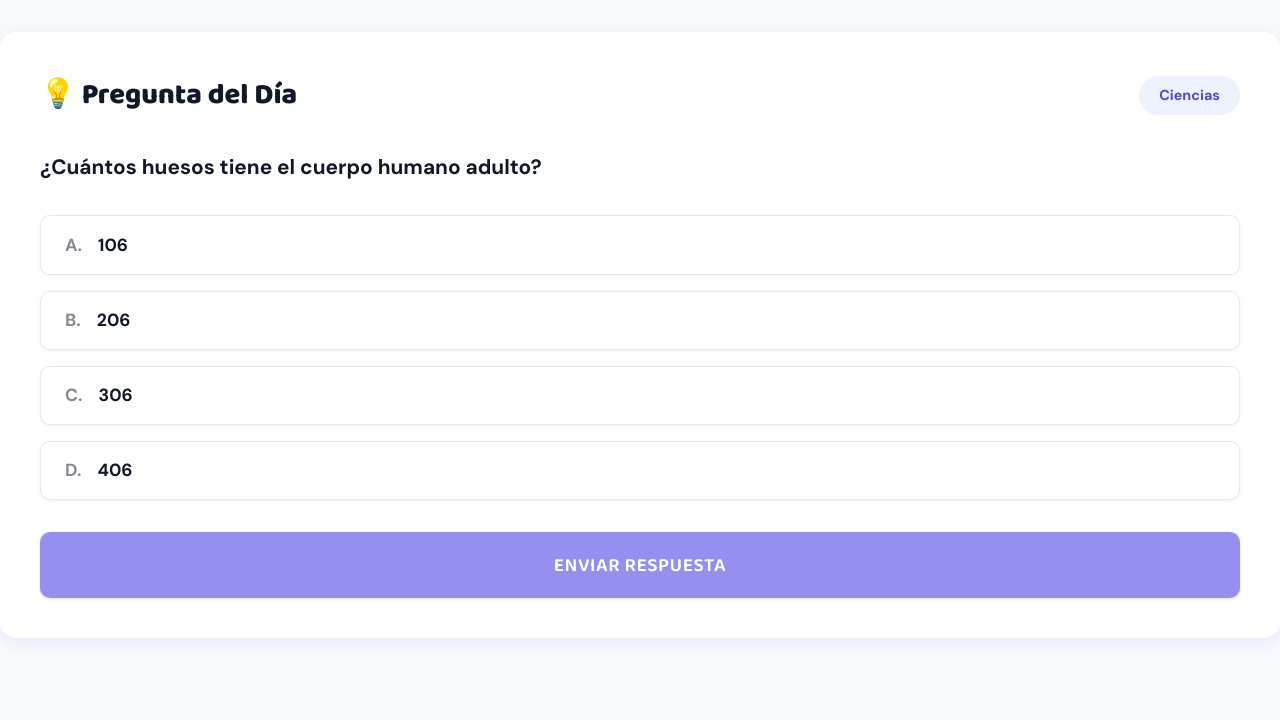
DailyQuestion › submits and shows the result for a logged-in user
Click the button "B. 206".
click(114, 320)  # box [40, 290, 1240, 350]
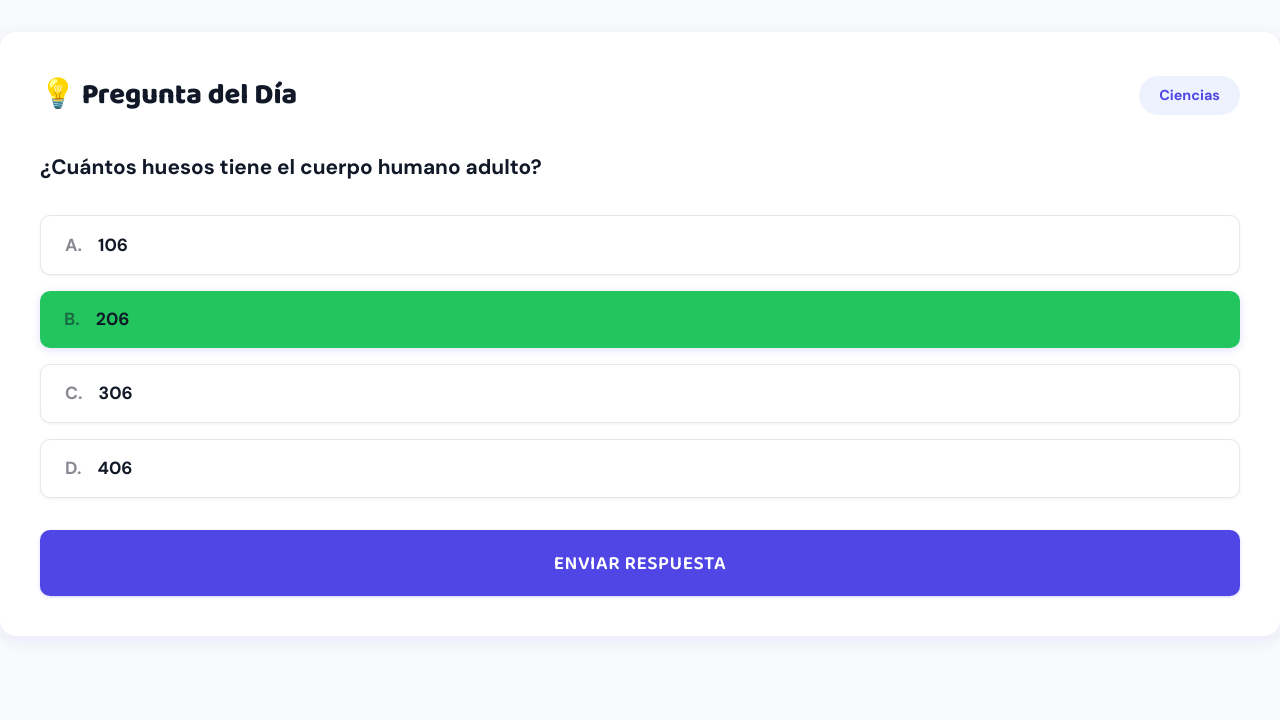
Click the button "Enviar Respuesta".
click(640, 563)  # box [40, 530, 1240, 596]
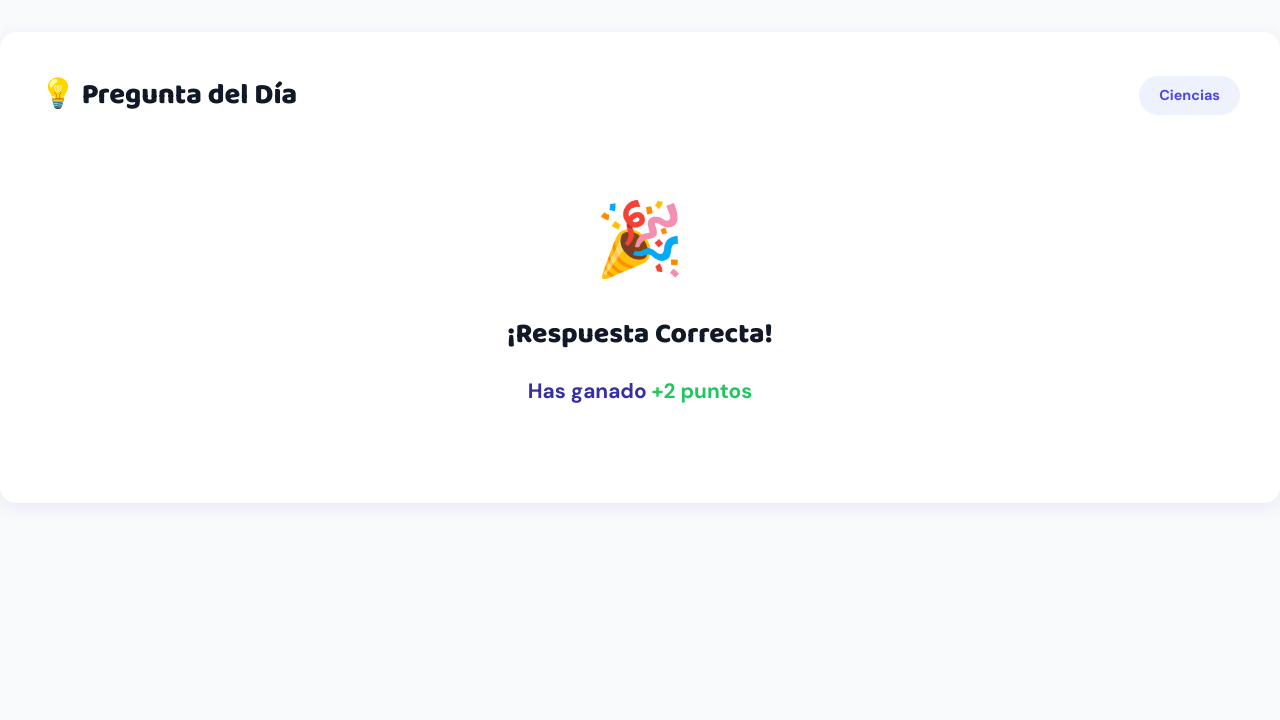
Expected: the text "Has ganado +2 puntos" is shown, [528, 377, 752, 404]
